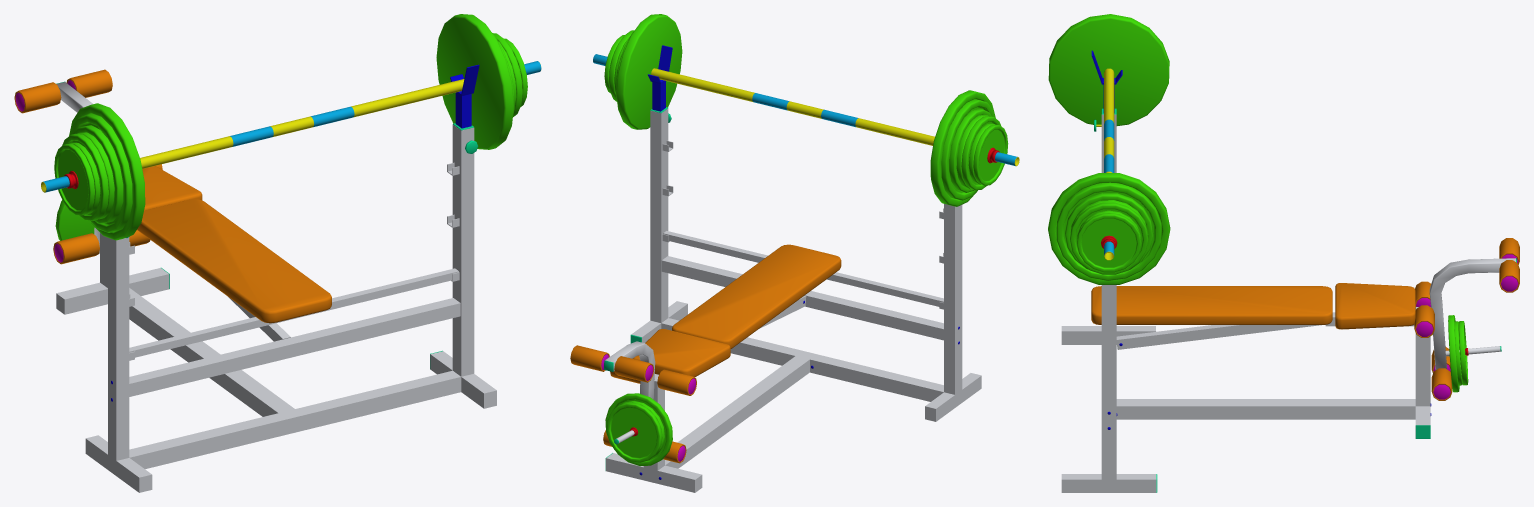
The model's file is Weight Bench.fbx.
3 views of the same model, side by side, from view 1: azimuth 30°, elevation 25°; view 2: azimuth 150°, elevation 25°; view 3: azimuth 270°, elevation 25° (orthographic). The views are drawn at different scales.
Parts seen in each view (by area): view 1: Weight Bench; view 2: Weight Bench; view 3: Weight Bench.
Part boxes in pixels (bbox=[...]): Weight Bench: bbox=[14, 14, 541, 492]; Weight Bench: bbox=[570, 14, 1019, 492]; Weight Bench: bbox=[1048, 14, 1519, 492].
Bounding box in the file's own units: 265 × 187 × 248.
